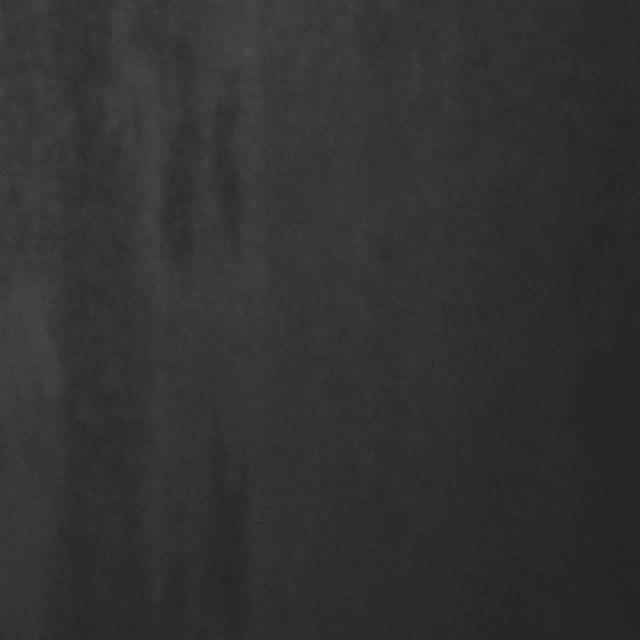inclusion: (47, 0, 139, 640), (175, 392, 276, 640), (207, 84, 260, 252)
